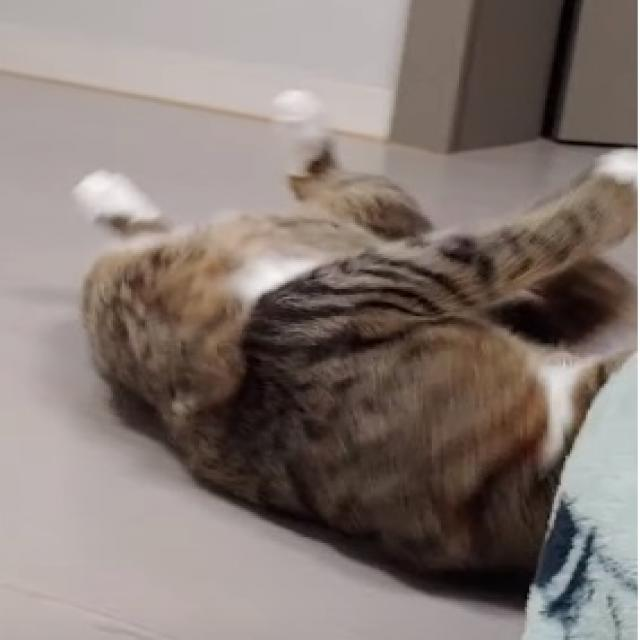cat: (76, 82, 640, 604)
